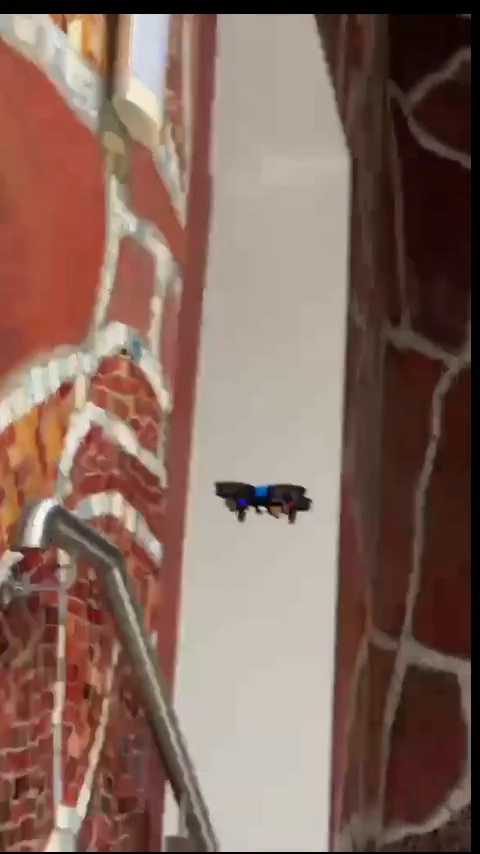drone: (217, 483, 320, 522)
